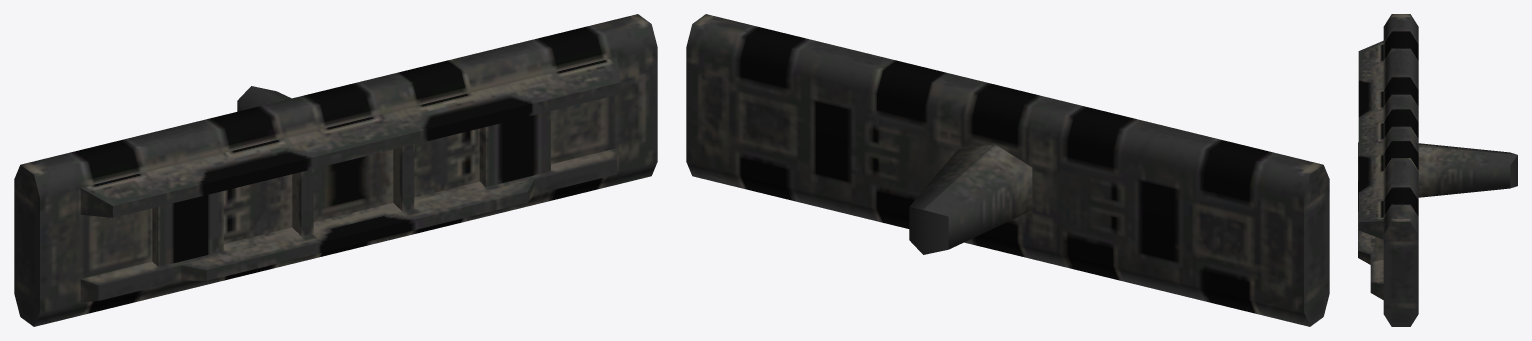
3 views of the same model, side by side, from view 1: azimuth 30°, elevation 25°; view 2: azimuth 150°, elevation 25°; view 3: azimuth 270°, elevation 25° (orthographic). The views are drawn at different scales.
Visible parts, largest first — view 1: set_0_group_0; view 2: set_0_group_0; view 3: set_0_group_0.
Boxes of the visible parts, x1,y1,x2,y2 form: set_0_group_0: (14, 14, 657, 326); set_0_group_0: (686, 14, 1329, 326); set_0_group_0: (1358, 14, 1517, 326).
Bounding box in the file's own units: 0.6 × 0.1413 × 0.195.
1 material, 1 textured.
